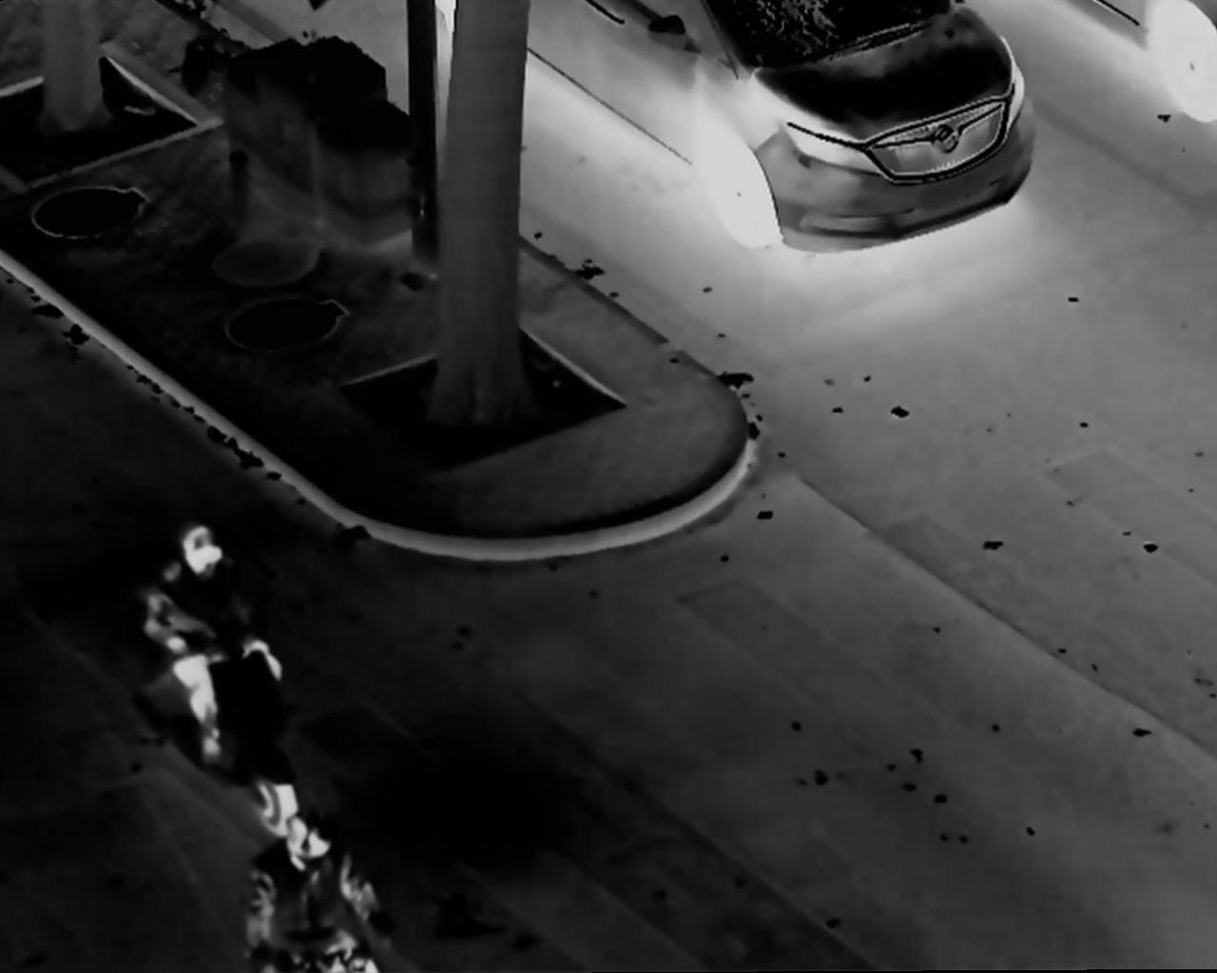person: (151, 526, 282, 760), (232, 812, 372, 973)
